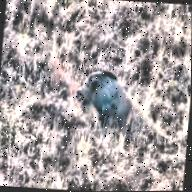boar: (70, 62, 145, 148)
